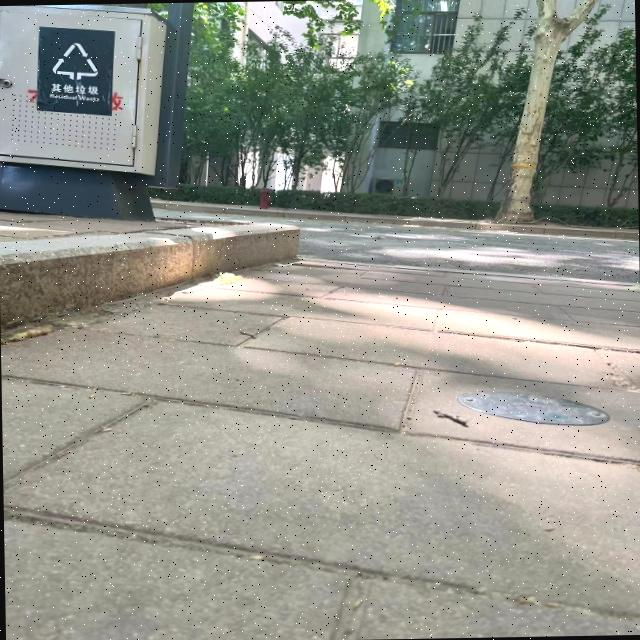curb: (1, 222, 303, 338)
